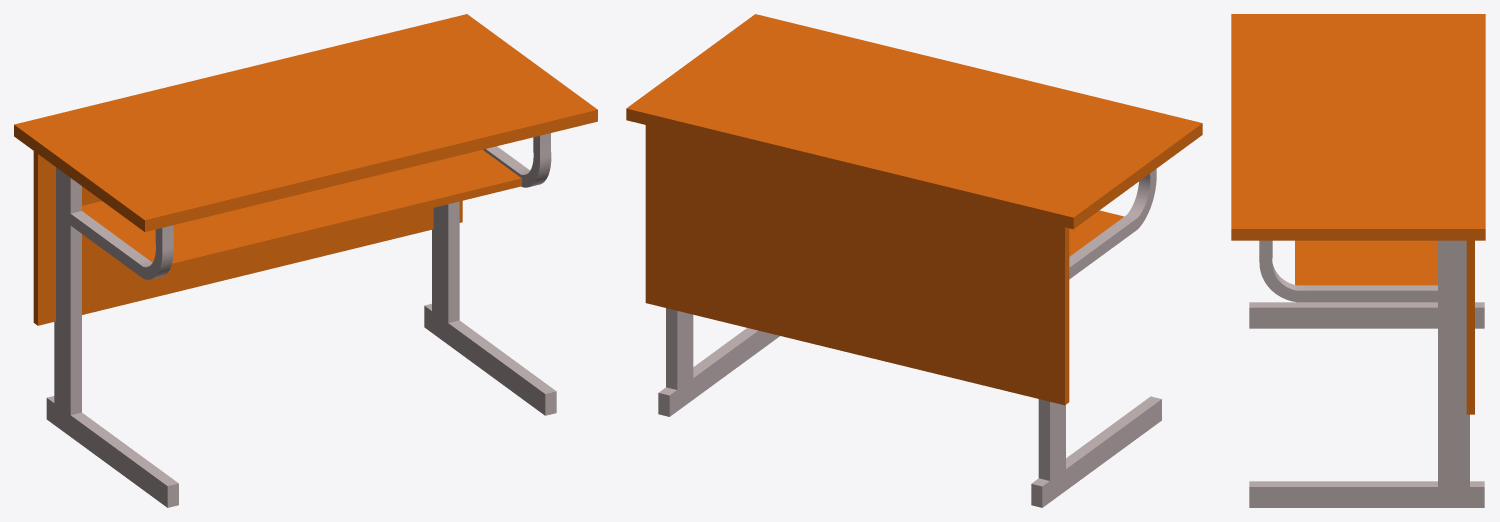
Rendered from Jump.fbx.
The picture shows the model from 3 angles, left to right: view 1: azimuth 30°, elevation 25°; view 2: azimuth 150°, elevation 25°; view 3: azimuth 270°, elevation 25°; orthographic projection. The views are drawn at different scales.
Parts seen in each view (by area): view 1: Cube, Cube.010, Cube.003, Cube.002, Cube.004, Cube.005, Cube.001, Cube.008, Cube.007; view 2: Cube.003, Cube, Cube.005, Cube.004, Cube.001, Cube.002, Cube.008, Cube.010; view 3: Cube, Cube.001, Cube.010, Cube.004, Cube.005, Cube.007, Cube.003.
Boxes of the visible parts, bbox=[...] form: Cube: bbox=[14, 14, 597, 231]; Cube.010: bbox=[82, 150, 521, 272]; Cube.003: bbox=[33, 151, 462, 325]; Cube.002: bbox=[54, 167, 81, 436]; Cube.004: bbox=[424, 303, 556, 415]; Cube.005: bbox=[46, 396, 178, 507]; Cube.001: bbox=[432, 201, 459, 338]; Cube.008: bbox=[70, 211, 173, 279]; Cube.007: bbox=[483, 133, 551, 187]; Cube.003: bbox=[645, 125, 1069, 405]; Cube: bbox=[626, 14, 1202, 229]; Cube.005: bbox=[1031, 396, 1161, 507]; Cube.004: bbox=[658, 328, 779, 416]; Cube.001: bbox=[666, 308, 693, 410]; Cube.002: bbox=[1038, 399, 1065, 501]; Cube.008: bbox=[1069, 169, 1156, 279]; Cube.010: bbox=[1069, 210, 1124, 256]; Cube: bbox=[1231, 14, 1485, 240]; Cube.001: bbox=[1438, 240, 1469, 507]; Cube.010: bbox=[1295, 240, 1437, 285]; Cube.004: bbox=[1249, 481, 1484, 507]; Cube.005: bbox=[1249, 302, 1484, 328]; Cube.007: bbox=[1259, 240, 1439, 302]; Cube.003: bbox=[1466, 240, 1474, 414].
Bounding box in the file's own units: 480 × 306 × 240.
